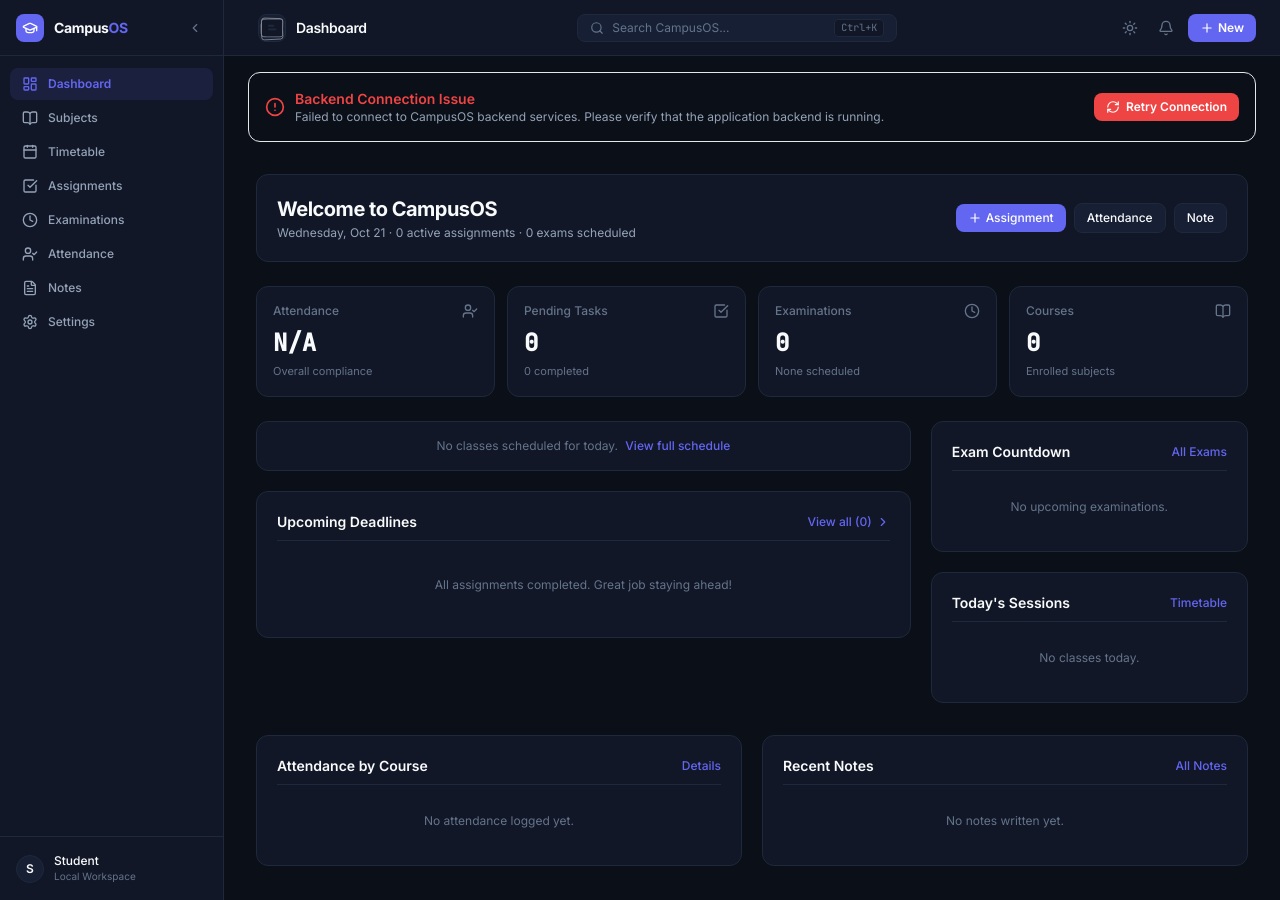
Test case: Frontend Business Logic & Validation Test Suite › Backend Discovery & Startup Reliability › clears error and restores dashboard when Retry Connection action succeeds
This screenshot has width=1280, height=900.
expect the text "Backend Connection Issue" is shown: met, box [295, 90, 475, 107]
expect the text "Failed to connect to CampusOS backend services. Please verify that the application backend is running." is shown: met, box [295, 109, 884, 124]
Click the button "Retry Connection" at (1166, 107), box [1094, 93, 1239, 121]
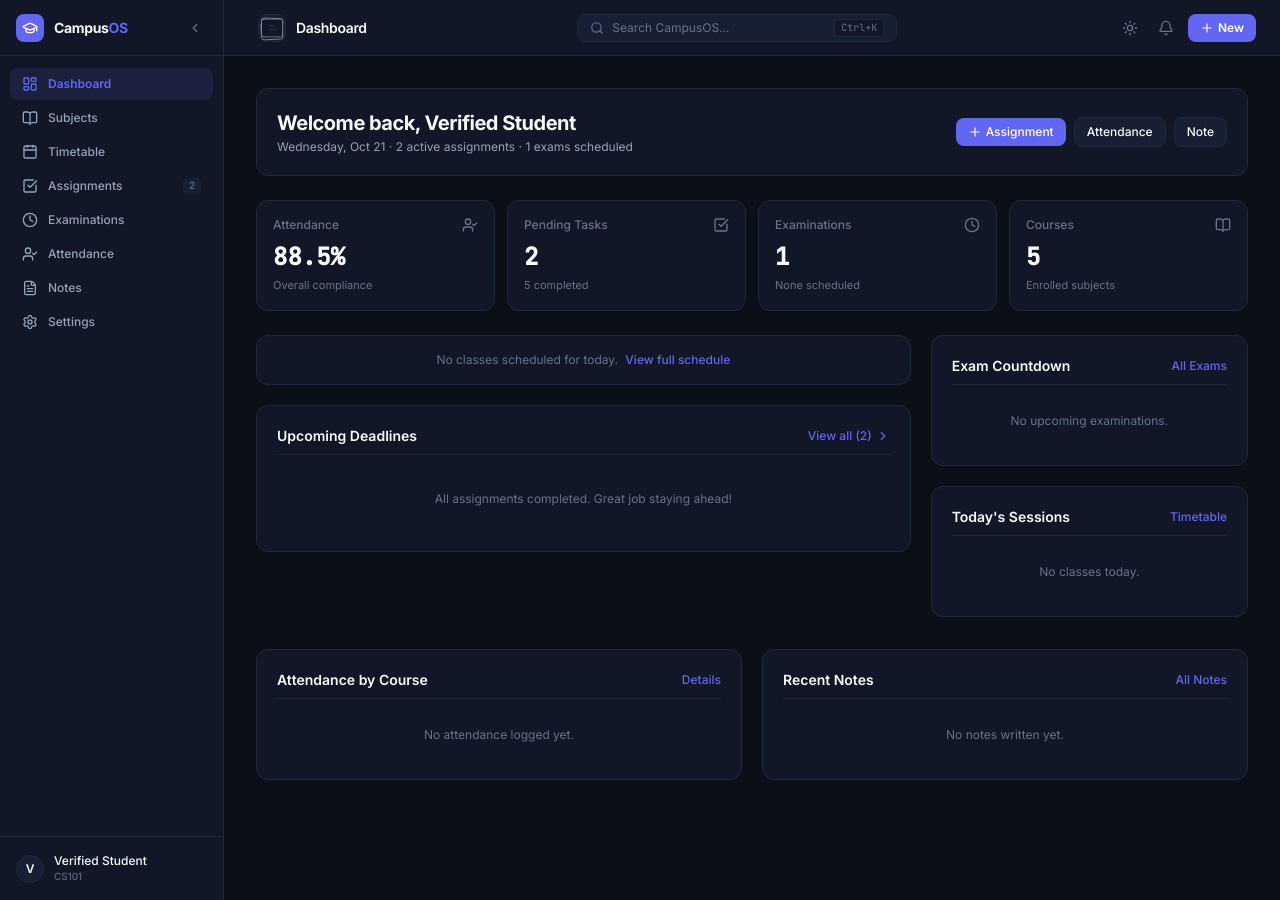
expect the text "Backend Connection Issue" is gone: met
